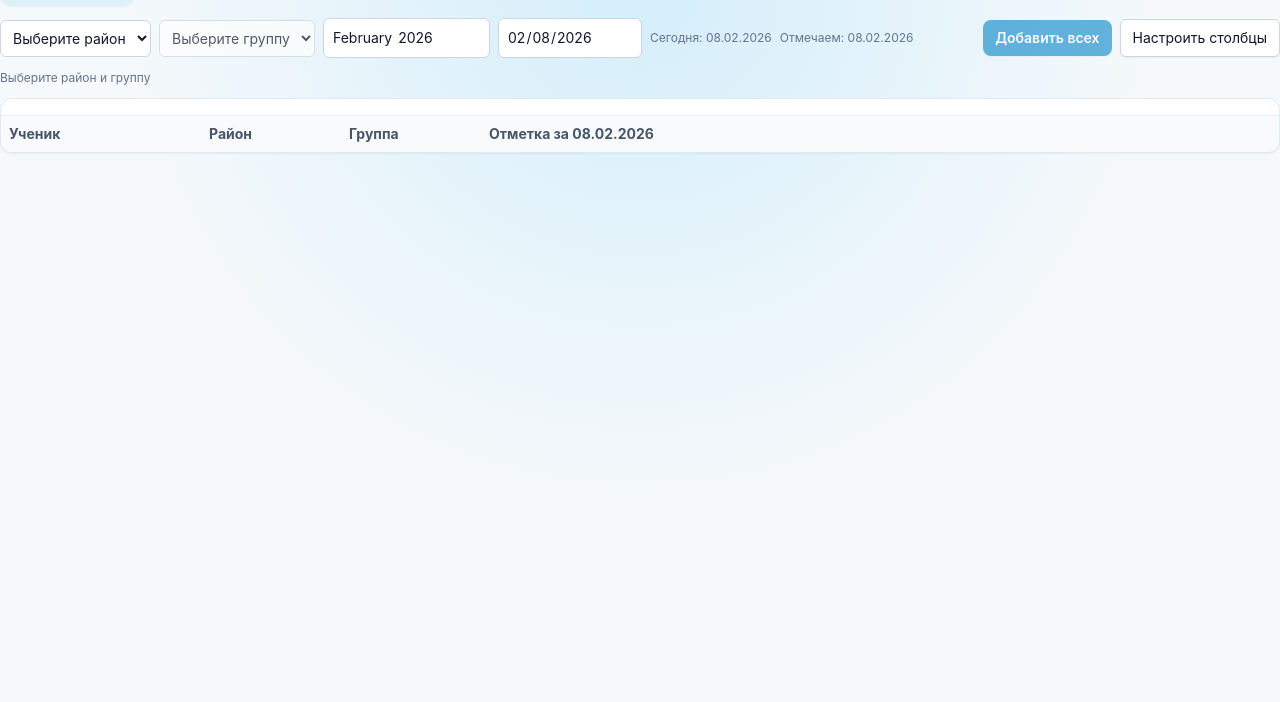
it: AttendanceTab hides canceled placements and clients
Select "Area1" in the 1st dropdown at (76, 38), box [0,20,151,56]
(page scrolled)
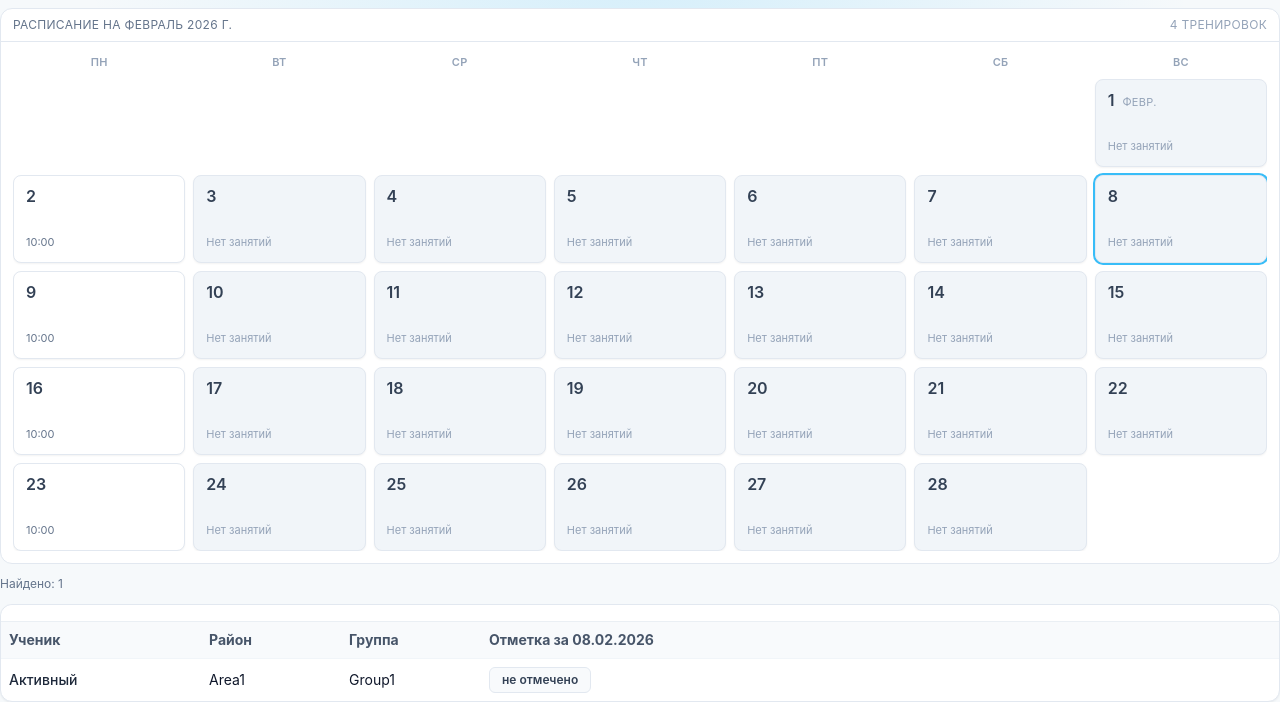
expect the text "Найдено: 1" is shown: met, box [0,576,63,590]
expect the text "Активный" is shown: met, box [9,670,78,688]
